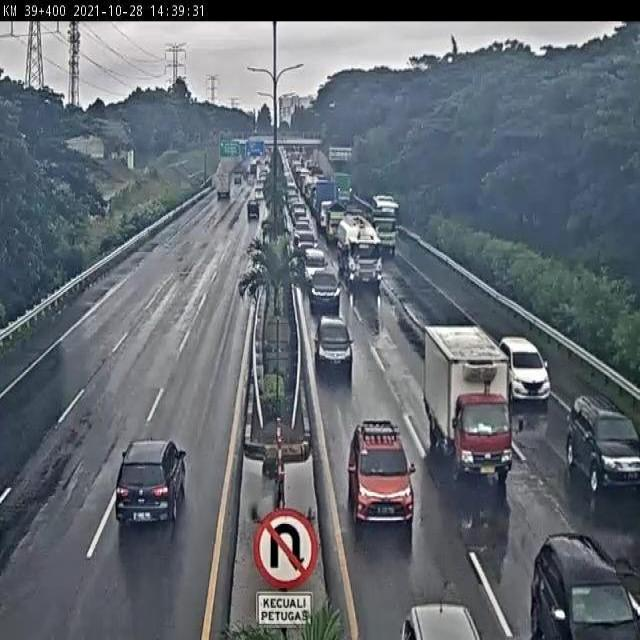big truck: (334, 216, 382, 292)
car: (509, 518, 640, 640), (344, 406, 428, 550), (100, 425, 202, 543), (550, 389, 640, 499), (490, 327, 557, 409), (396, 578, 475, 640), (312, 307, 354, 385), (305, 265, 341, 311), (241, 199, 265, 224)
small truck: (419, 324, 517, 496), (369, 207, 399, 257), (209, 168, 239, 203)
